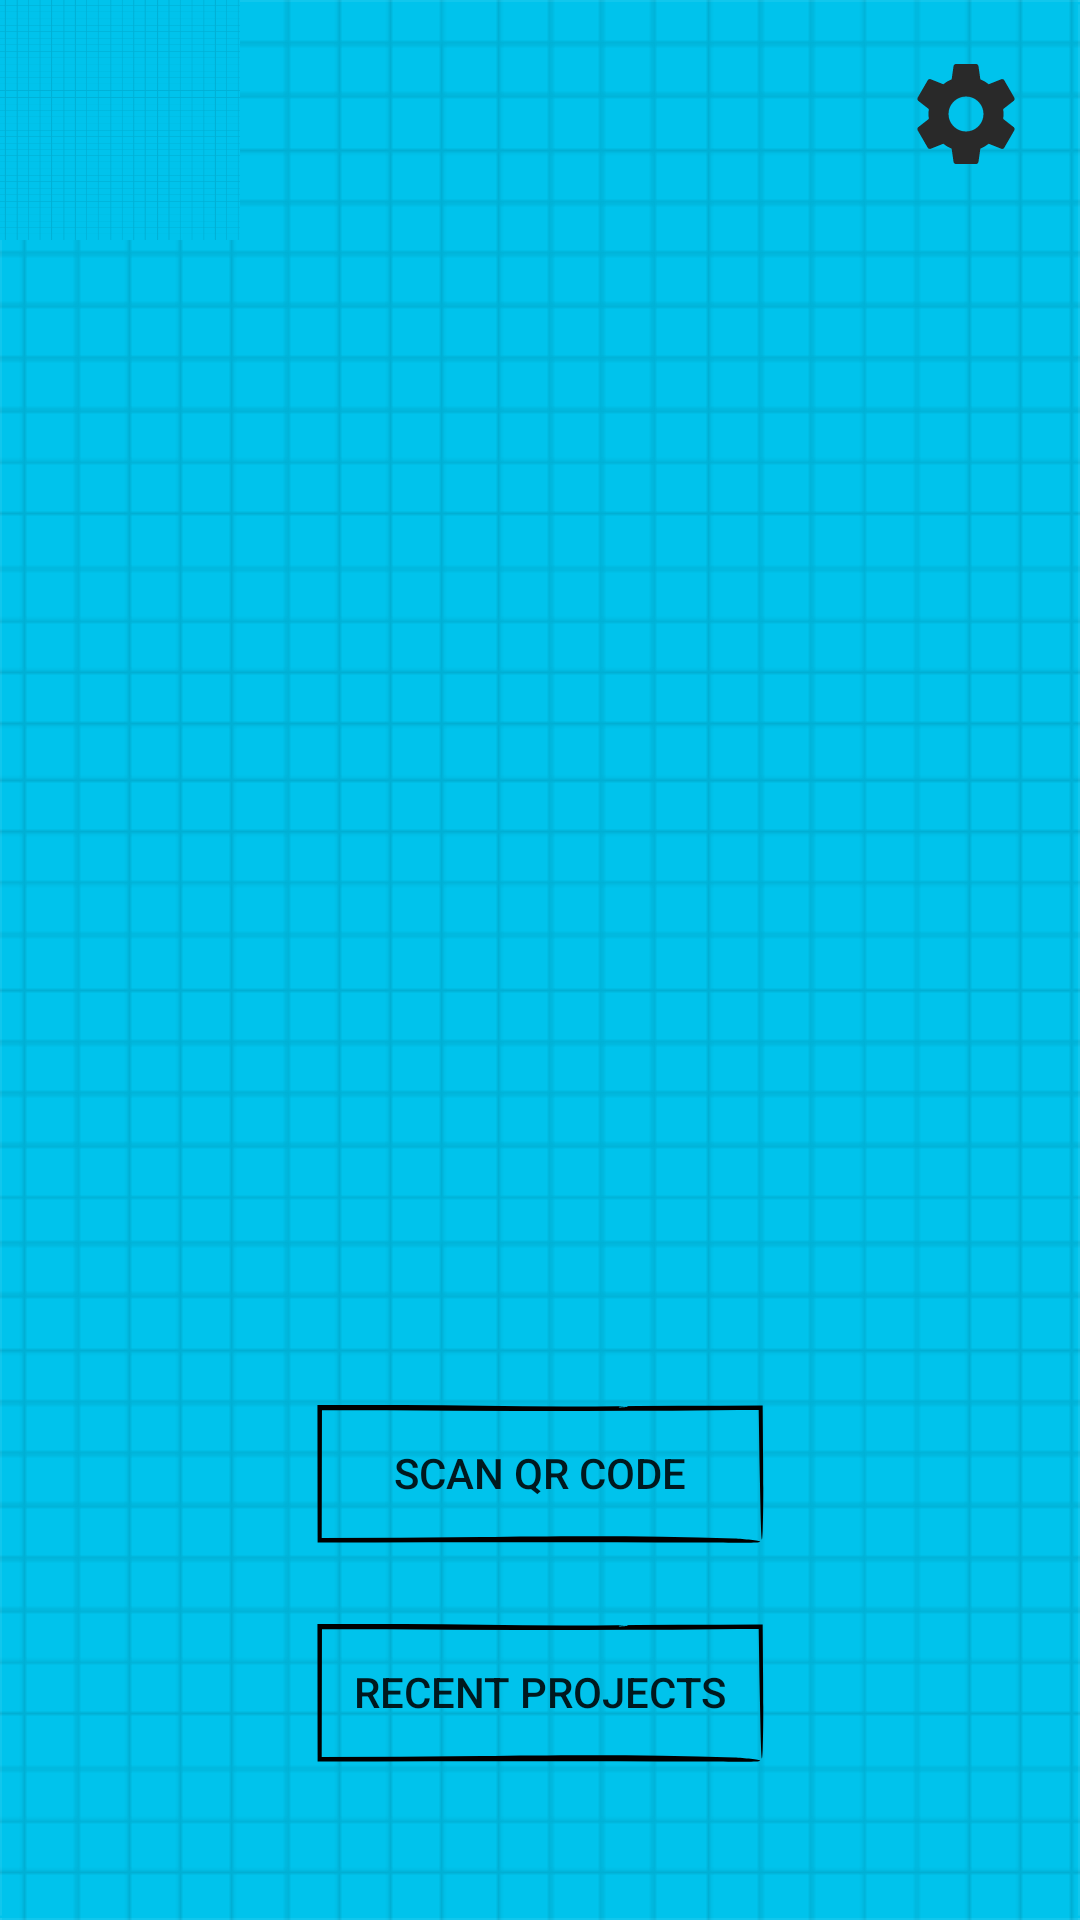

Icons on this 1080w x 1920h Android screen, each with its box as {"left": x1, "top": y1, "right": x2, "bottom": y2}:
settings: {"left": 917, "top": 64, "right": 1015, "bottom": 164}
